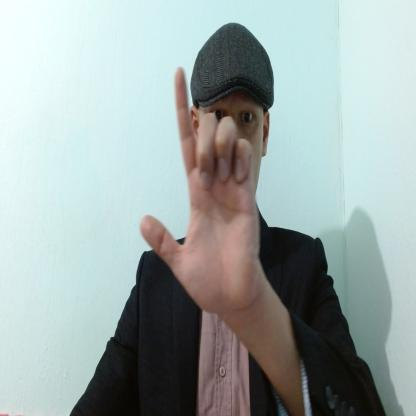L: (139, 65, 259, 315)
